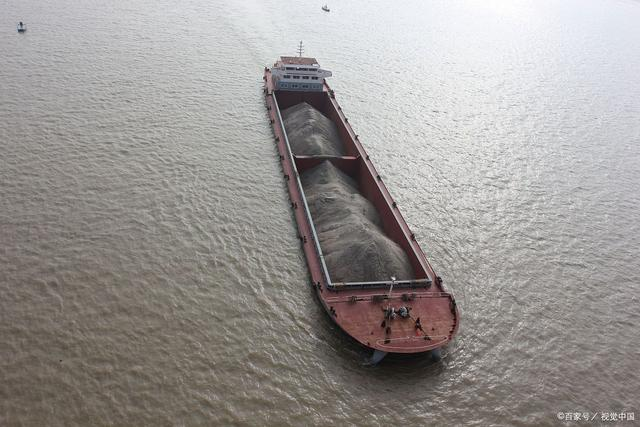boat: (261, 47, 465, 352)
